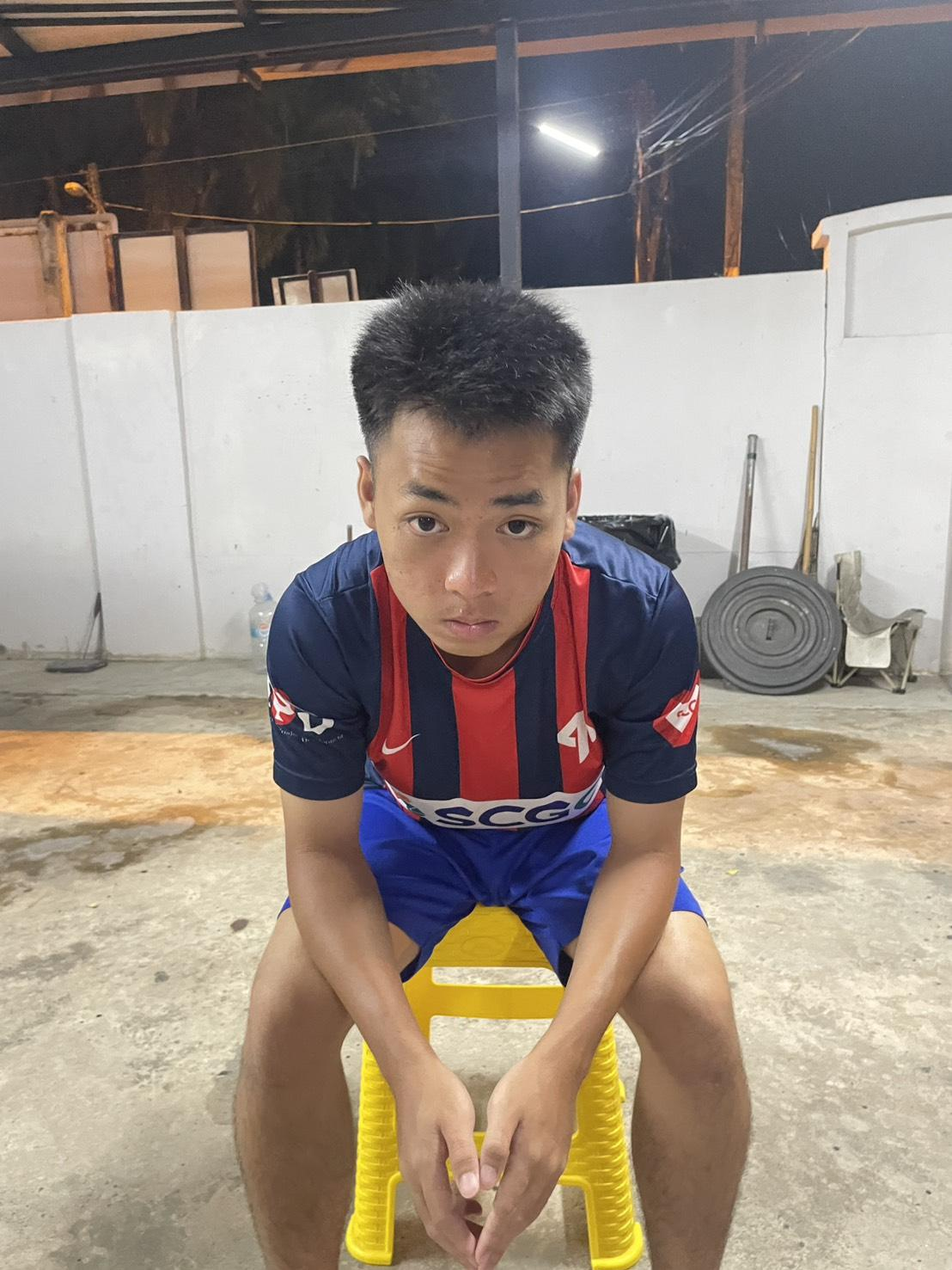BadPosture: (269, 285, 699, 837), (267, 286, 699, 831)
